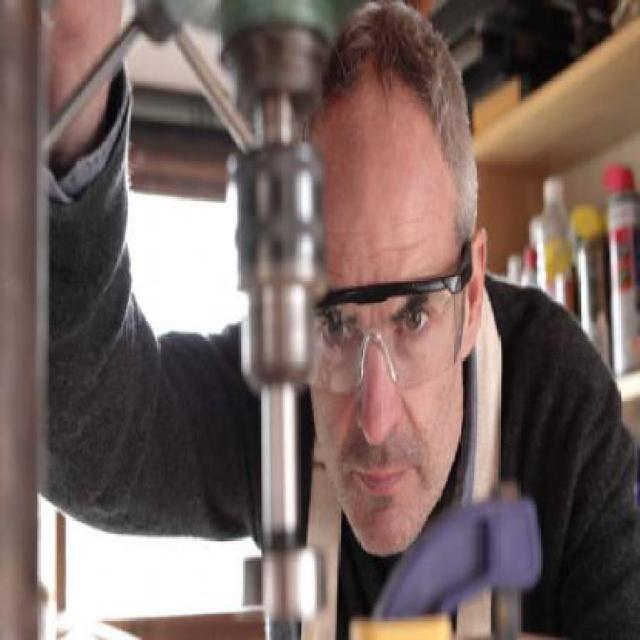glass: (313, 273, 467, 401)
head: (281, 9, 498, 566)
person: (60, 13, 626, 608)
